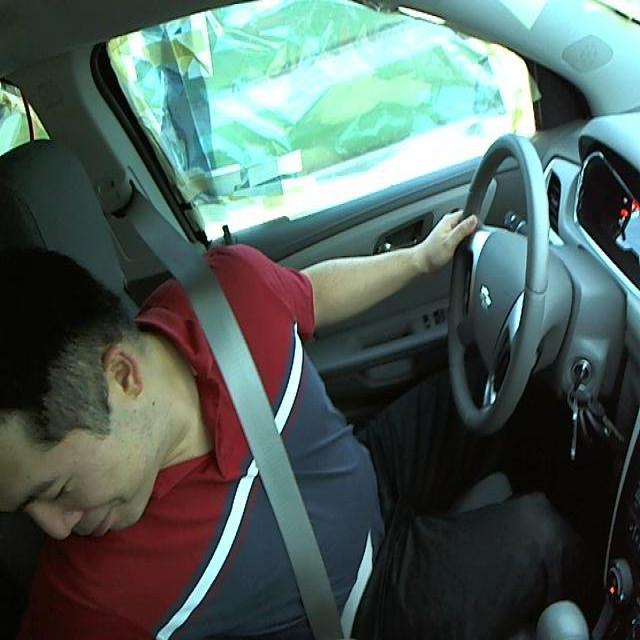seatbelt: (199, 296, 352, 623)
